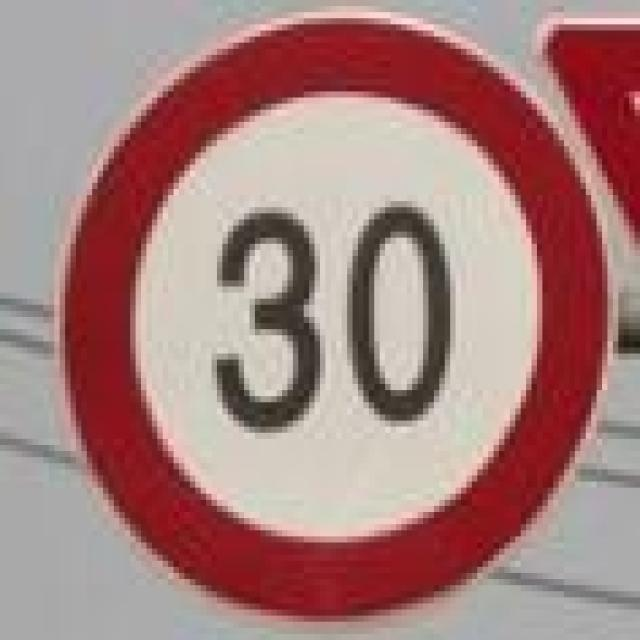speed_limit_30: (55, 12, 608, 616)
